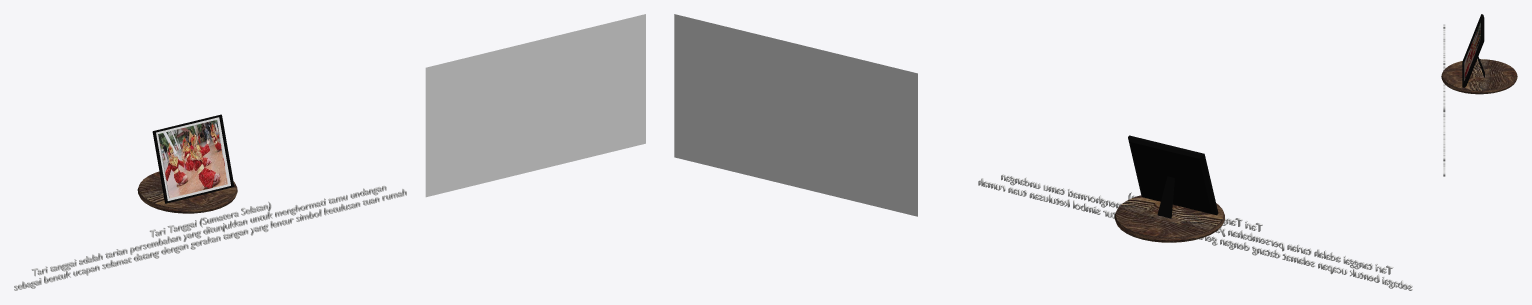
Rendered from 5. Tari Tanggai (Sumatera selatan).fbx.
The picture shows the model from 3 angles, left to right: view 1: azimuth 30°, elevation 25°; view 2: azimuth 150°, elevation 25°; view 3: azimuth 270°, elevation 25°; orthographic projection. The views are drawn at different scales.
Visible parts, largest first — view 1: Plane, Cube.036, Text; view 2: Plane, Cube.036, Text; view 3: Cube.036, Text.
Boxes of the visible parts, x1,y1,x2,y2 form: Plane: [425, 14, 645, 197]; Cube.036: [137, 114, 237, 213]; Text: [14, 185, 406, 290]; Plane: [674, 14, 917, 216]; Cube.036: [1114, 135, 1224, 242]; Text: [978, 174, 1412, 290]; Cube.036: [1441, 14, 1517, 94]; Text: [1443, 24, 1445, 176].
Bounding box in the file's own units: 9431 × 1800 × 1260.
6 materials, 3 textured.
